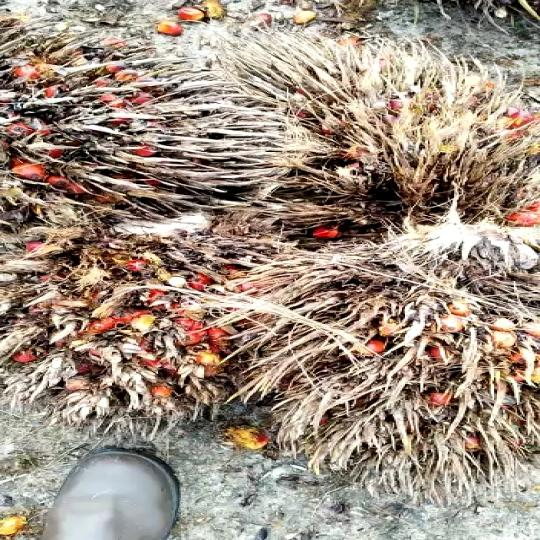terlalu masak: (196, 38, 540, 246), (0, 224, 238, 424)
